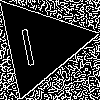I: (15, 19, 39, 67)
